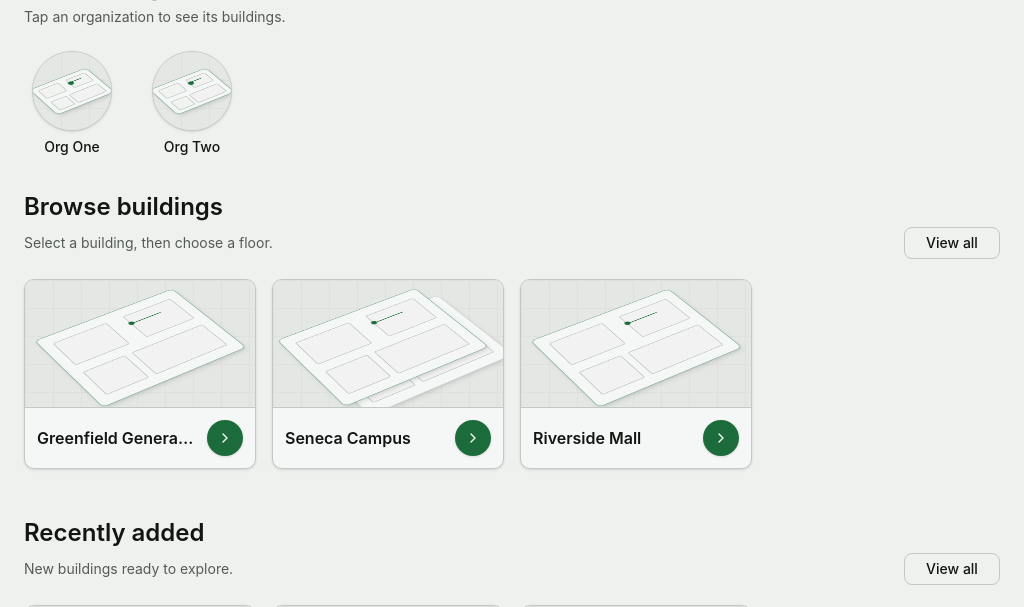
Test: LandingExplorer › uses the same floor selector for a one-floor venue
(page scrolled)
Check: the element "Browse buildings" is shown, box [0, 191, 1023, 517]
Click the button with aria-label "Choose a floor at Greenfield General Hospital". click: (140, 374)
box: [25, 280, 255, 468]
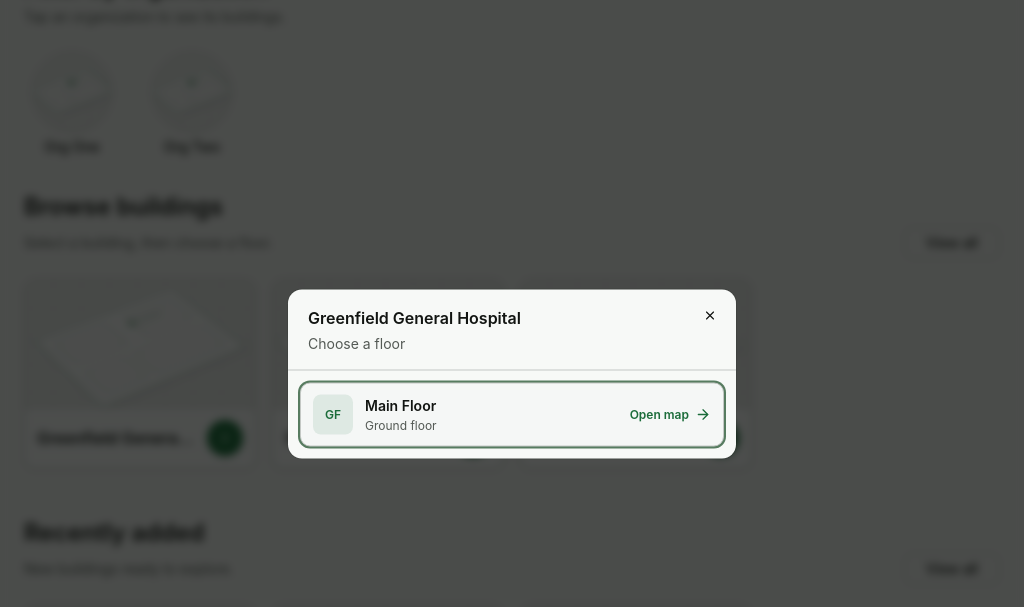
Check: the link with aria-label "Open Main Floor map" is shown, box [300, 382, 724, 446]
